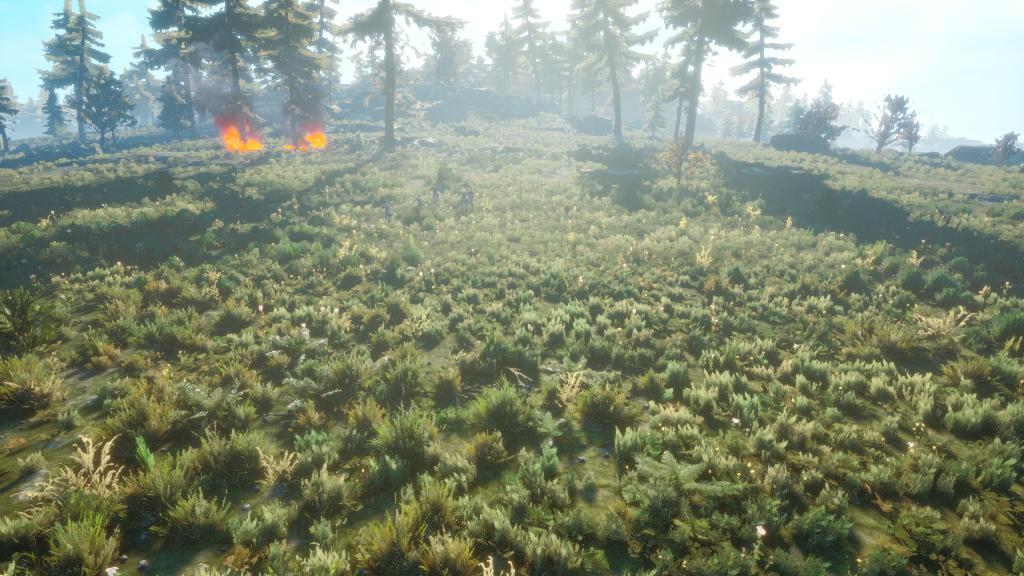Fire: (206, 107, 270, 157), (287, 123, 332, 156)
human: (413, 182, 446, 213), (460, 185, 489, 219), (377, 196, 404, 228)
smoke: (280, 77, 342, 122), (188, 71, 262, 100)
